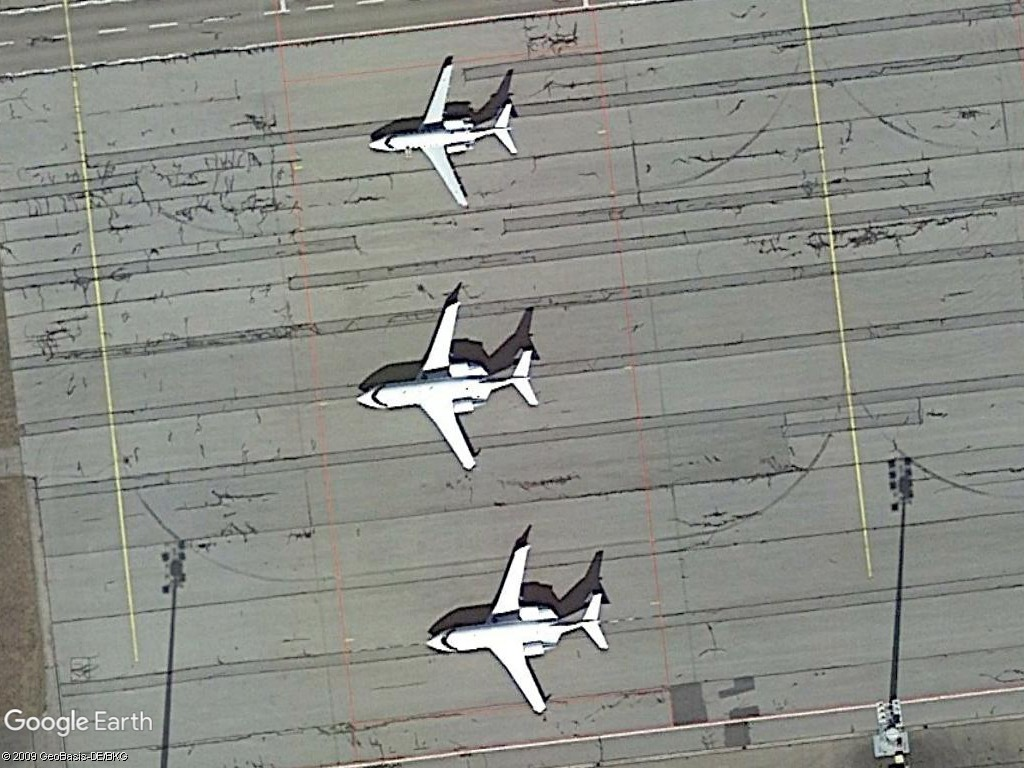chartered: (421, 542, 615, 718), (354, 298, 543, 473), (360, 57, 525, 210)
